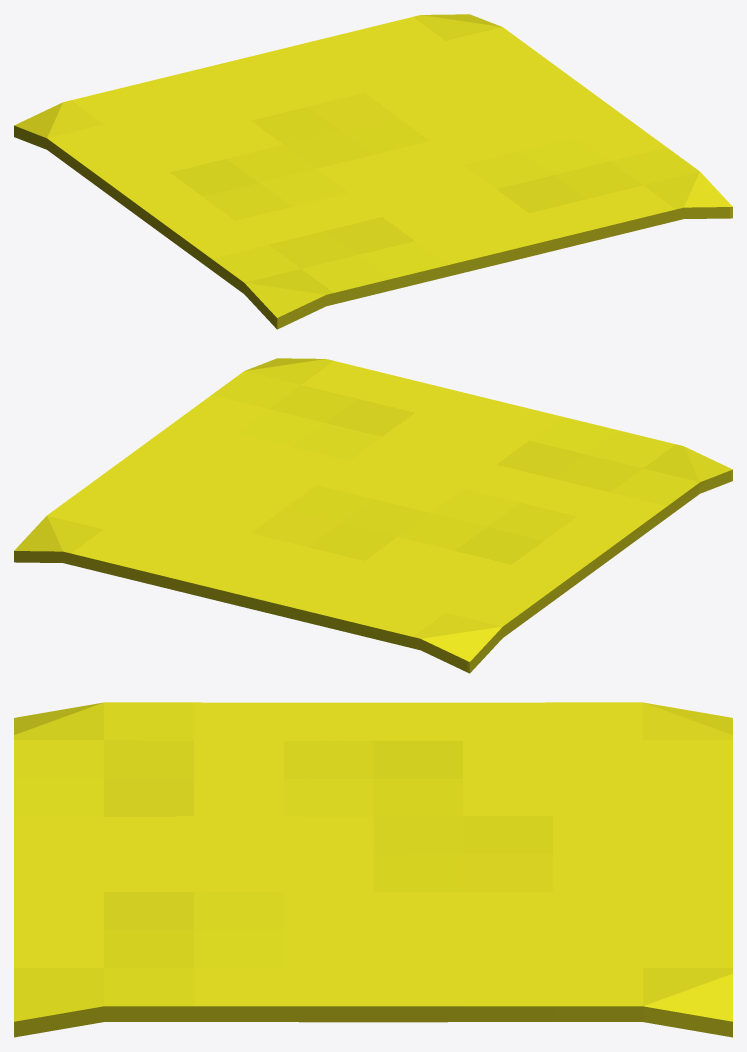
The model's file is cheeese.fbx.
The picture shows the model from 3 angles, top to bottom: view 1: azimuth 30°, elevation 25°; view 2: azimuth 150°, elevation 25°; view 3: azimuth 270°, elevation 25°; orthographic projection. The views are drawn at different scales.
Visible parts, largest first — view 1: Plane.002; view 2: Plane.002; view 3: Plane.002.
Part boxes in pixels (x1,y1,x2,y2): Plane.002: (14,14,732,329); Plane.002: (14,358,732,673); Plane.002: (14,702,732,1037).
Bounding box in the file's own units: 81.53 × 3.91 × 81.53.
